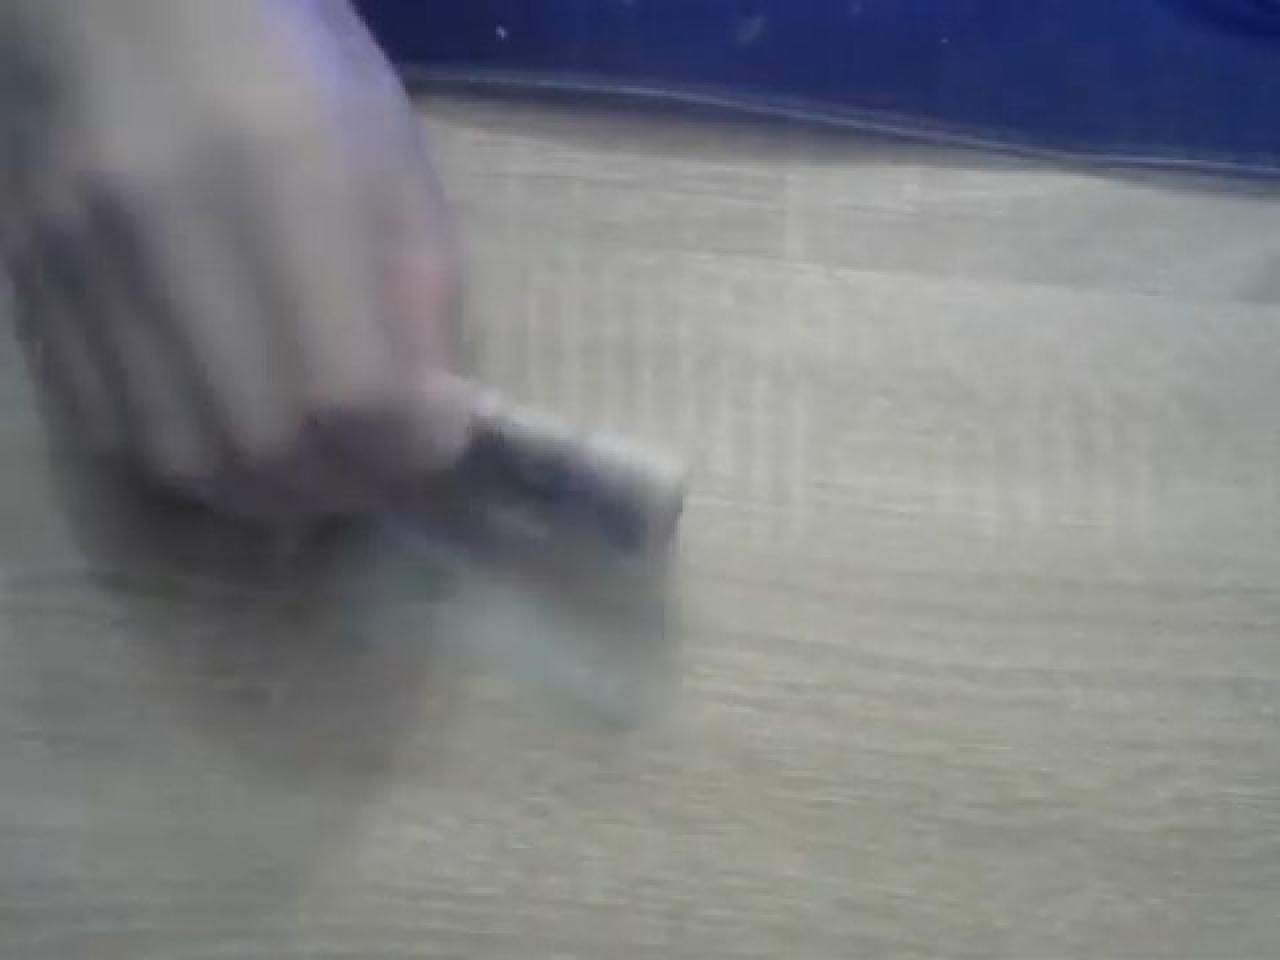10leva: (0, 0, 690, 731)
